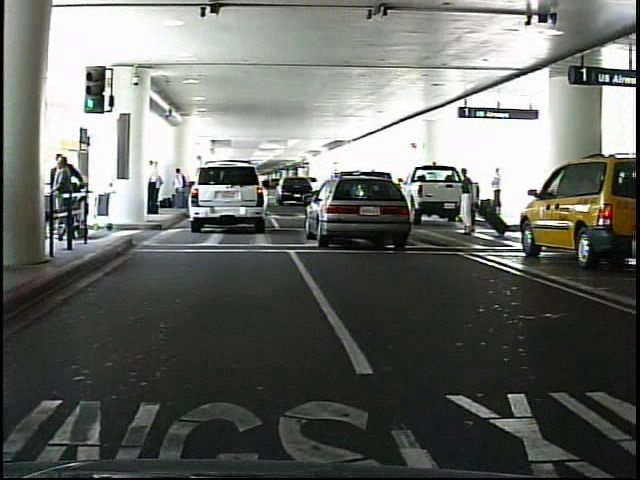person: (460, 165, 481, 237), (493, 165, 508, 218), (152, 157, 164, 217), (177, 167, 191, 210)
